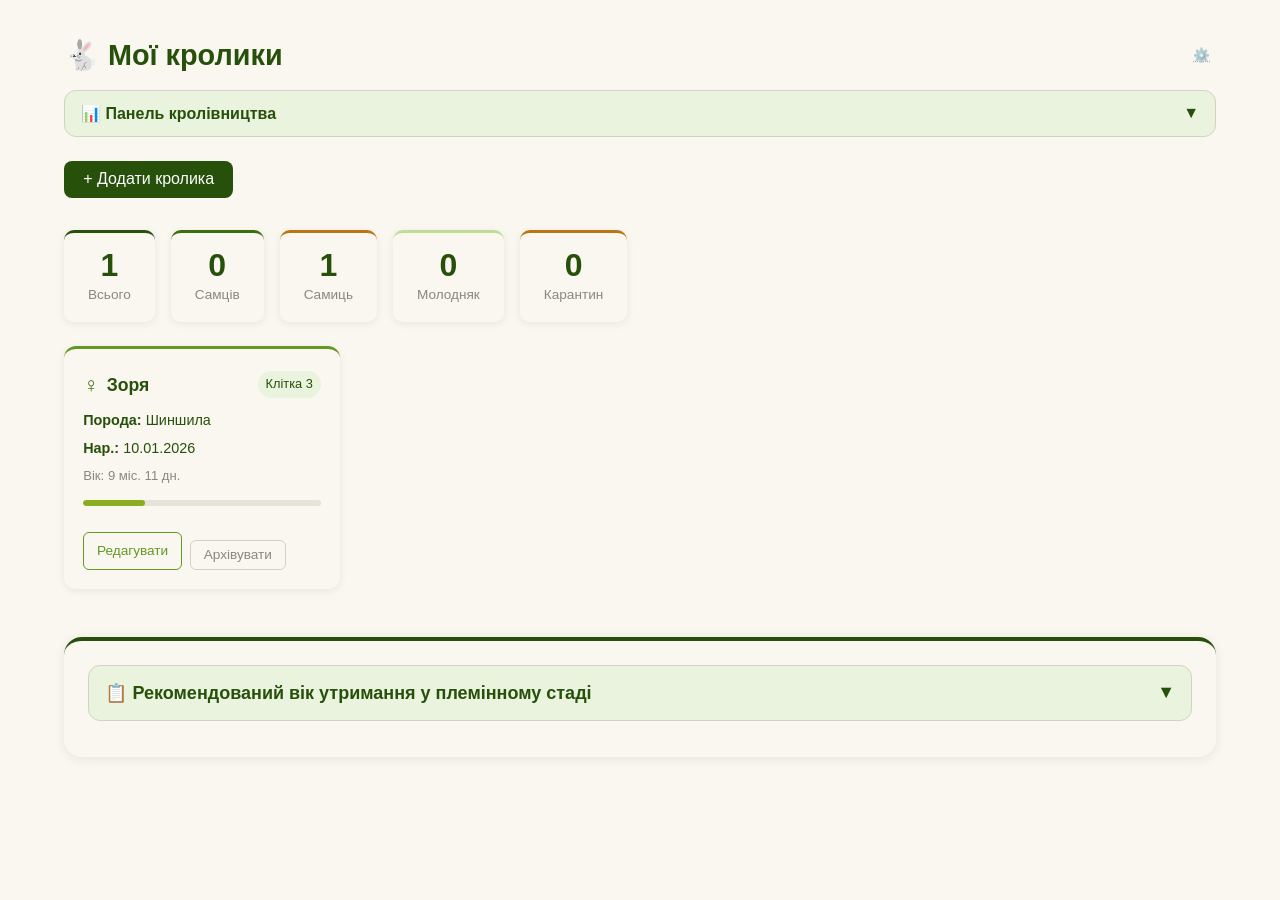
Test: RabbitRegistry: помилки Supabase › архівування без помилок закриває модалку
This screenshot has width=1280, height=900.
Click the button "Архівувати": [238, 555] box [190, 540, 286, 570]
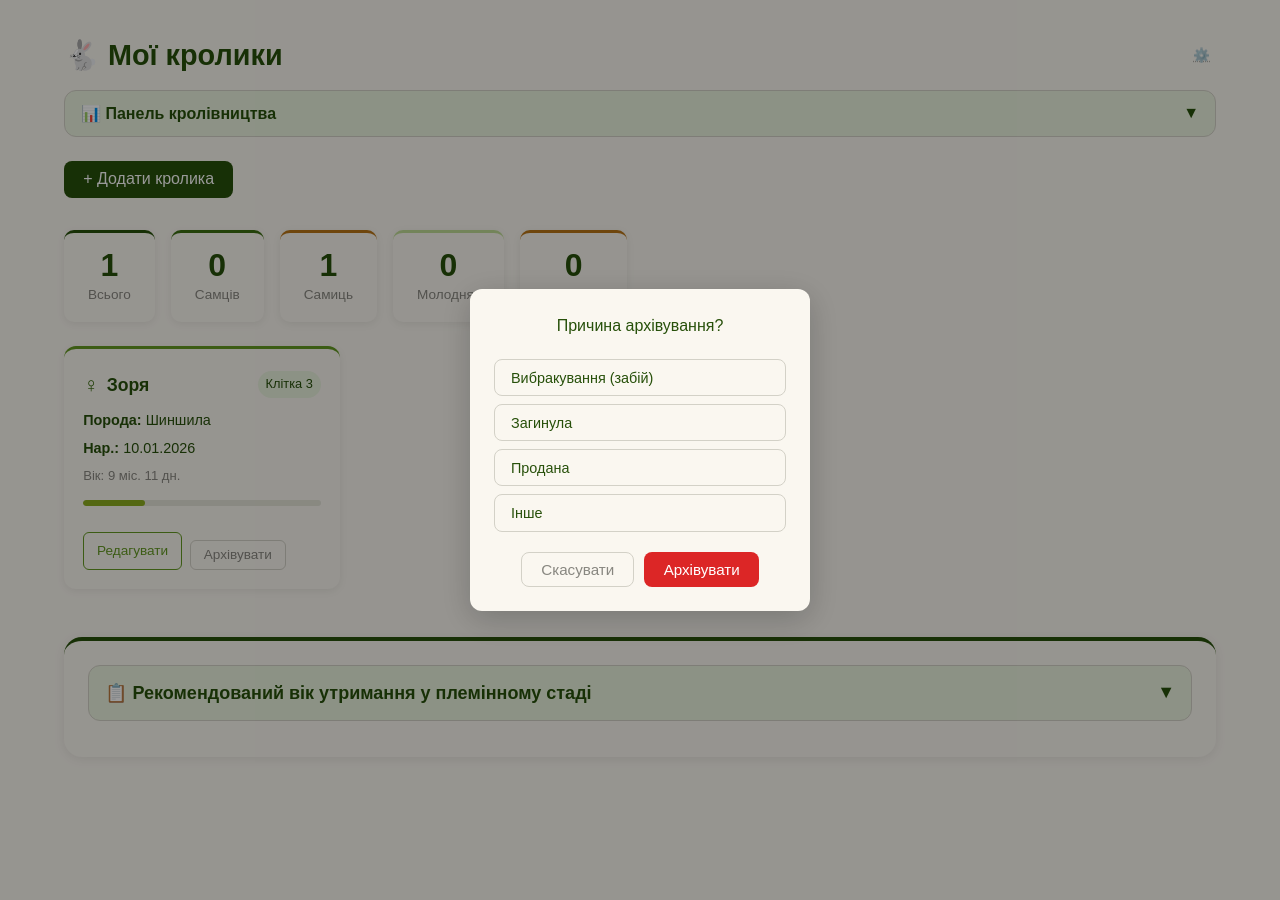
Click the button "Загинула": [542, 423] box [494, 404, 786, 441]
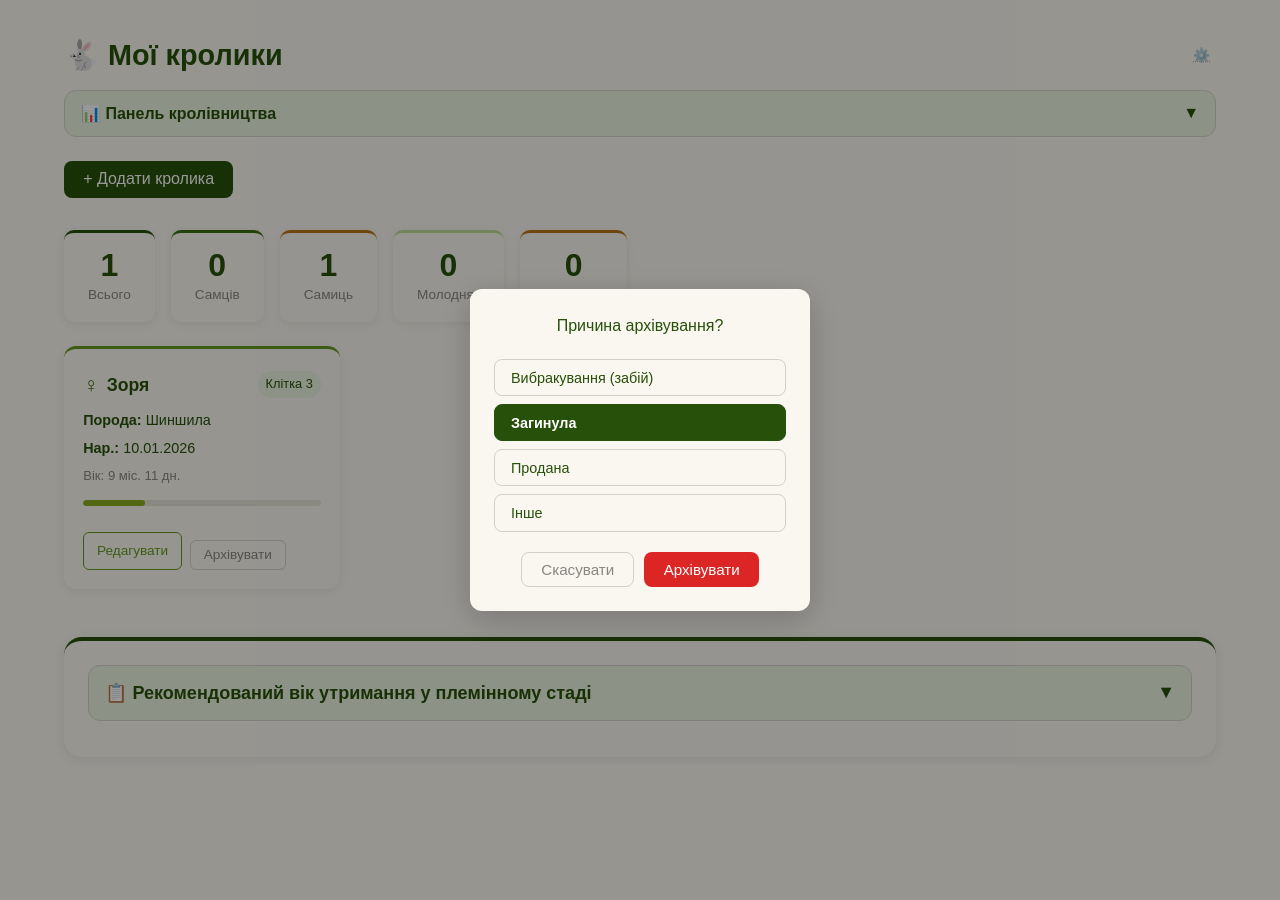
Click the button "Архівувати": [702, 569] box [644, 552, 759, 587]
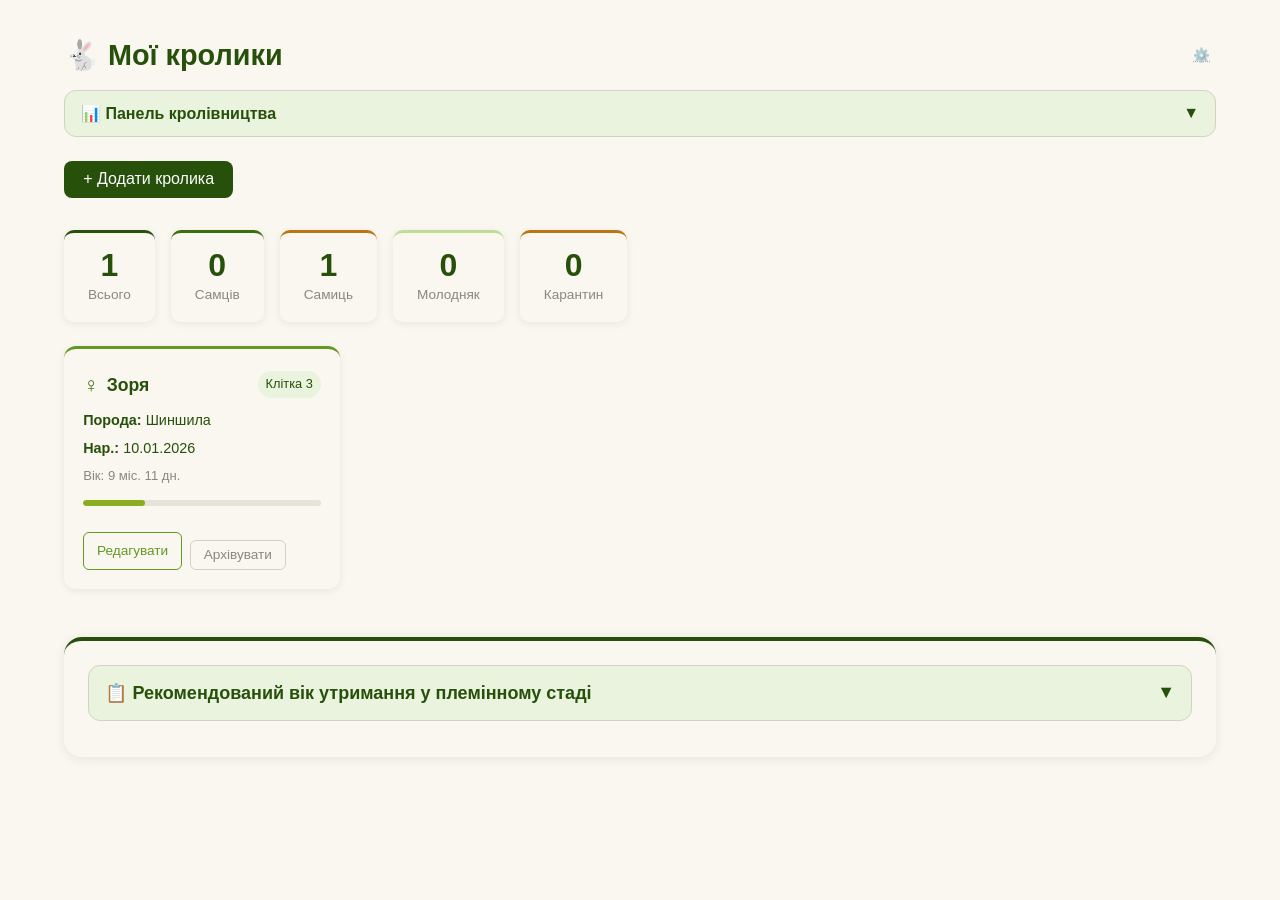
Check: the text "Причина архівування?" is gone
